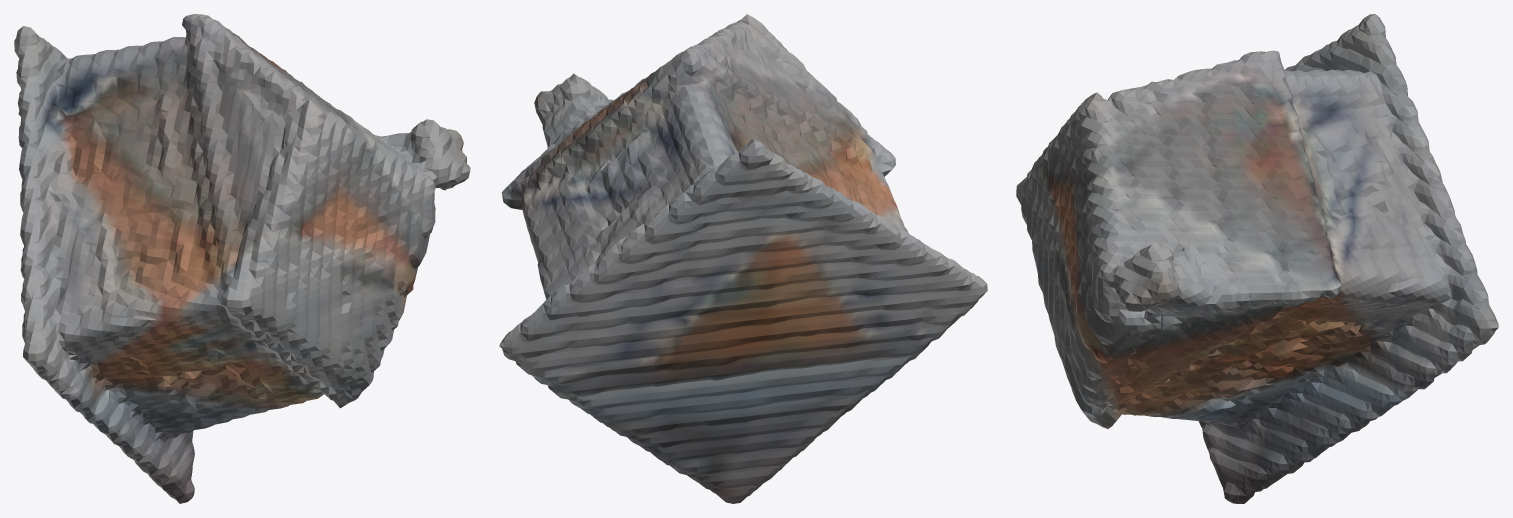
Rendered from triposr.glb.
3 renders of one model, left to right at view 1: azimuth 30°, elevation 25°; view 2: azimuth 150°, elevation 25°; view 3: azimuth 270°, elevation 25°, orthographic. The views are drawn at different scales.
Parts seen in each view (by area): view 1: world; view 2: world; view 3: world.
Part boxes in pixels (left/top/right/bottom): world: left=14, top=14, right=470, bottom=503; world: left=499, top=14, right=987, bottom=503; world: left=1016, top=14, right=1498, bottom=503.
Bounding box in the file's own units: 3.68 × 3.67 × 3.43.
